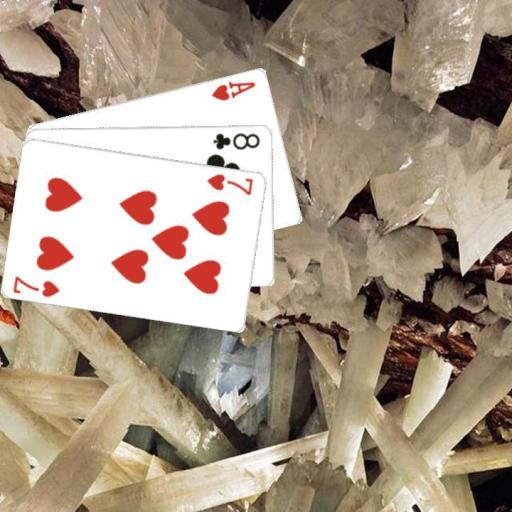7H: (10, 272, 61, 299), (204, 170, 255, 196)
8C: (211, 129, 262, 151)
AH: (209, 78, 258, 102)
